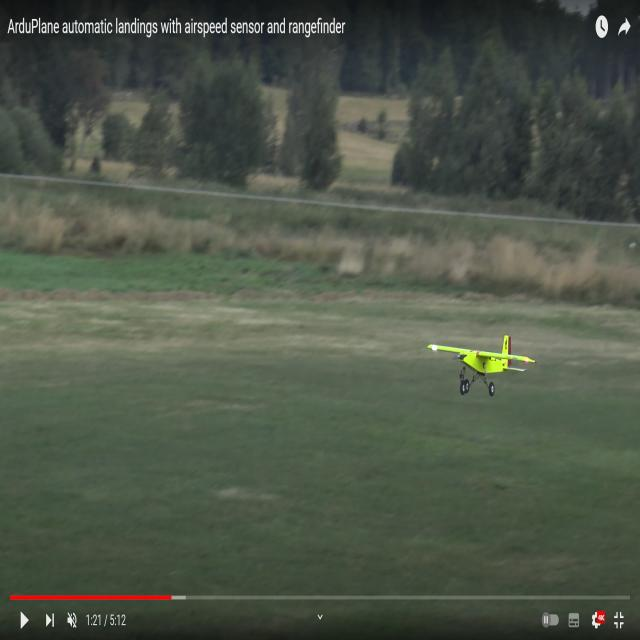iha: (461, 335, 508, 389)
